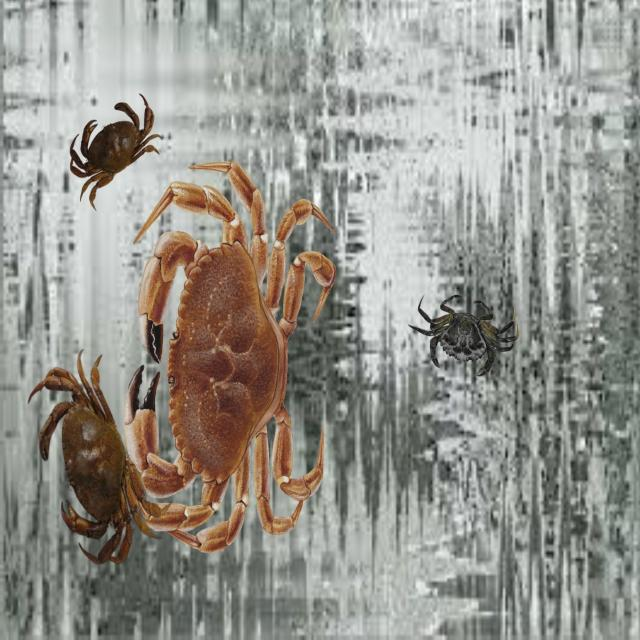European_Green_Crab: (404, 273, 524, 396)
